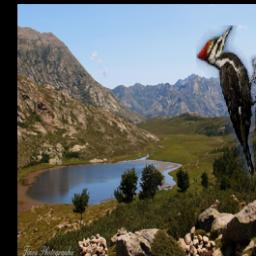Woodpecker: (197, 26, 256, 187)
